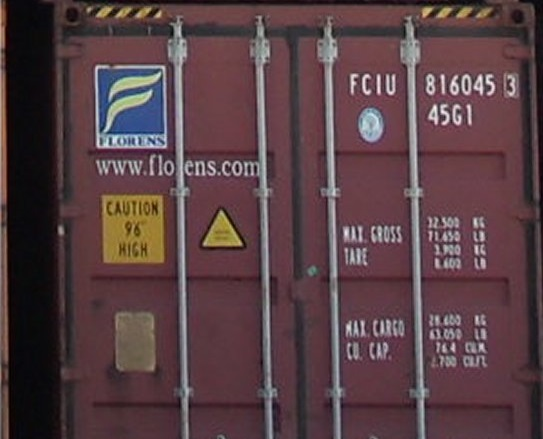container_door: (52, 2, 537, 436)
